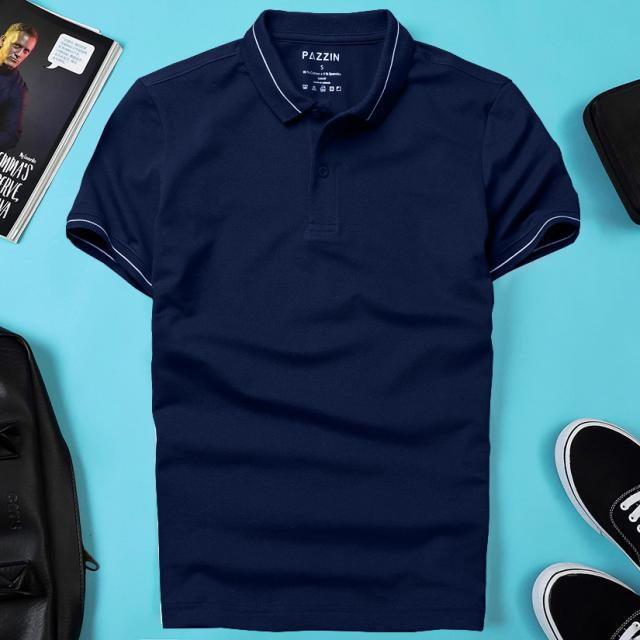Shirt: (67, 3, 588, 636)
